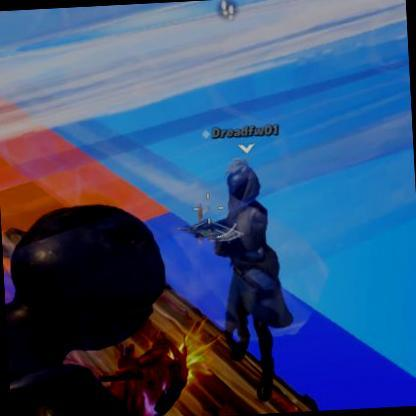person: (0, 198, 178, 416), (198, 154, 300, 398)
